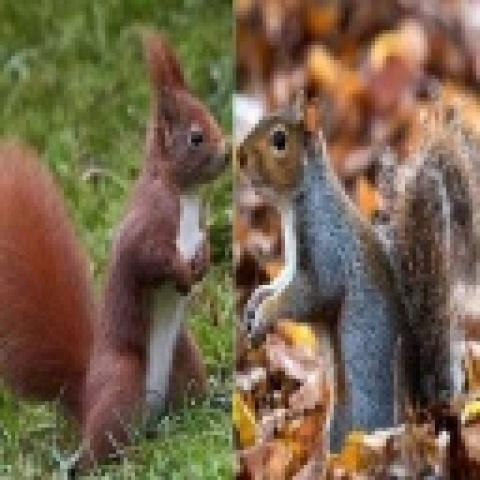small_animal: (0, 37, 229, 470), (238, 102, 474, 467)
